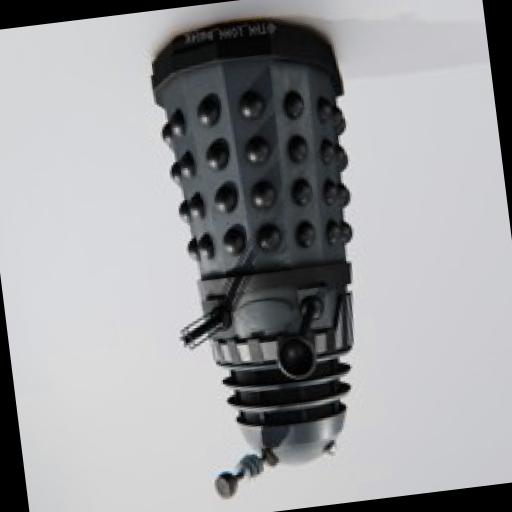dalek: (142, 3, 410, 506)
